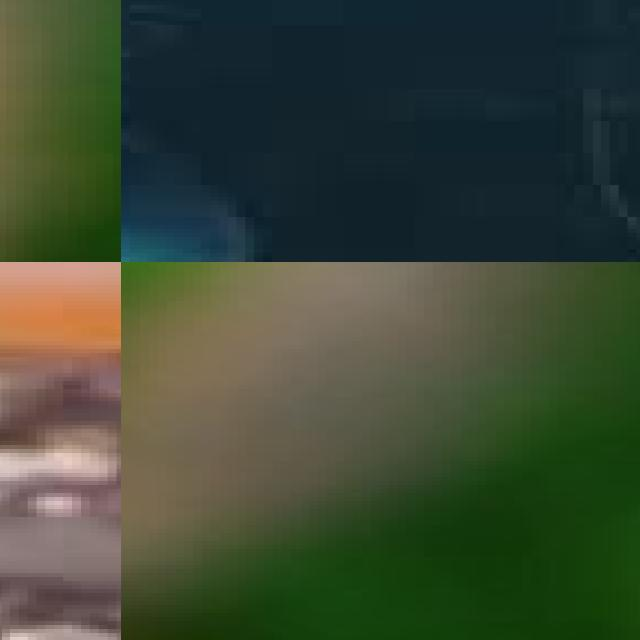fish: (0, 262, 121, 613), (0, 0, 121, 262)
